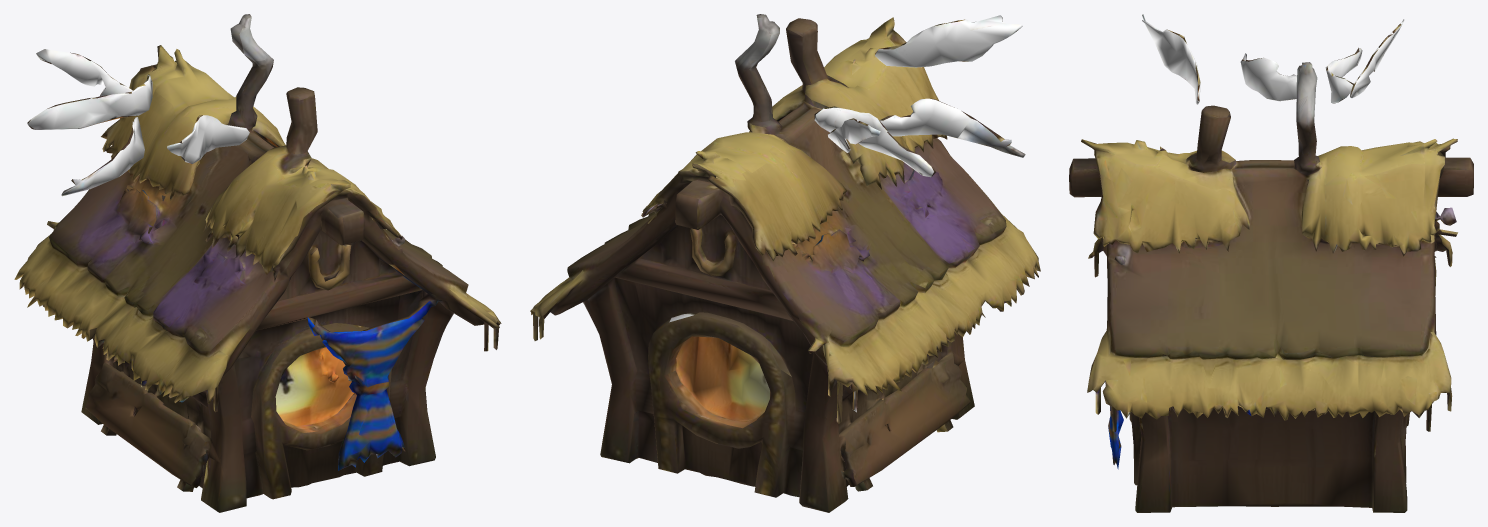
Rendered from imphut.glb.
The picture shows the model from 3 angles, left to right: view 1: azimuth 30°, elevation 25°; view 2: azimuth 150°, elevation 25°; view 3: azimuth 270°, elevation 25°; orthographic projection. The views are drawn at different scales.
Visible parts, largest first — view 1: tmpp2gwejyh.ply; view 2: tmpp2gwejyh.ply; view 3: tmpp2gwejyh.ply.
Boxes of the visible parts, x1,y1,x2,y2 form: tmpp2gwejyh.ply: (14, 14, 501, 512); tmpp2gwejyh.ply: (530, 14, 1040, 512); tmpp2gwejyh.ply: (1069, 14, 1473, 512).
Size of the model in its own units: 0.9792 by 1 by 0.9137.
Materials: 1 (1 with a texture image).
